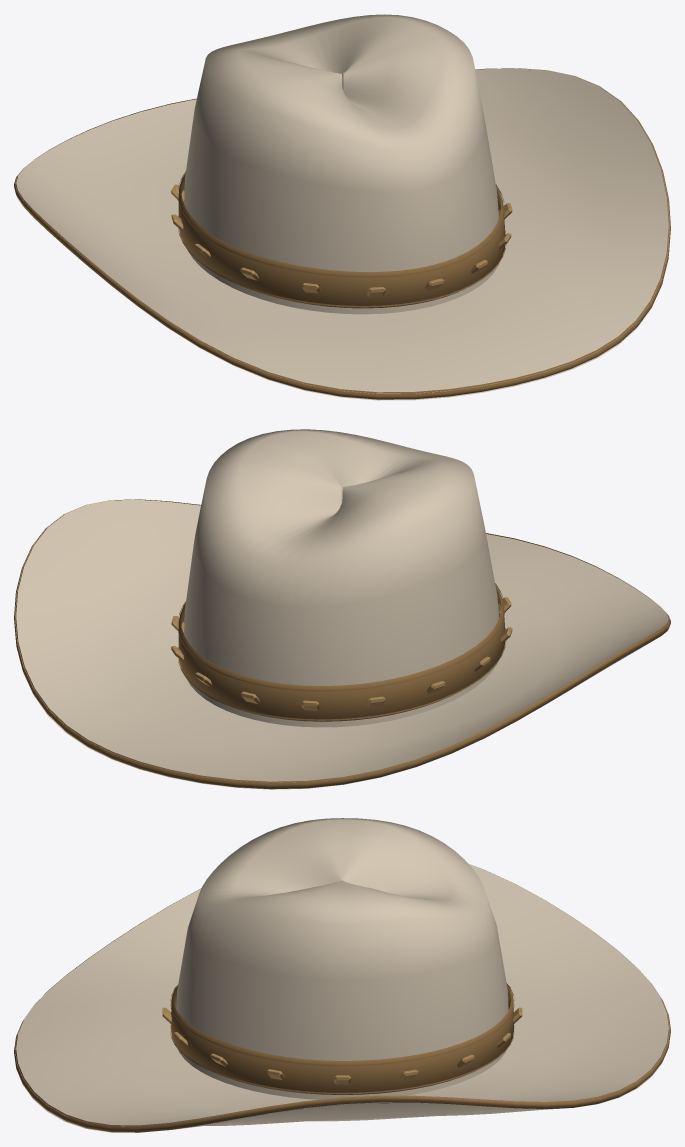
Rendered from bronze-band.glb.
The picture shows the model from 3 angles, top to bottom: view 1: azimuth 30°, elevation 25°; view 2: azimuth 150°, elevation 25°; view 3: azimuth 270°, elevation 25°; orthographic projection. The views are drawn at different scales.
Parts seen in each view (by area): view 1: Felt upper brim, Felt crown, Fitted hatband, Bound brim edge, Felt under brim, Sewn band border.001, Sewn band border; view 2: Felt upper brim, Felt crown, Fitted hatband, Bound brim edge, Sewn band border.001, Sewn band border, Felt under brim; view 3: Felt crown, Felt upper brim, Fitted hatband, Bound brim edge, Felt under brim, Sewn band border.001, Sewn band border.
Boxes of the visible parts, left/top/right/bottom form: Felt upper brim: left=15, top=68, right=669, bottom=393; Felt crown: left=184, top=14, right=499, bottom=314; Fitted hatband: left=178, top=173, right=505, bottom=308; Bound brim edge: left=14, top=68, right=670, bottom=399; Felt under brim: left=16, top=196, right=658, bottom=400; Sewn band border.001: left=177, top=171, right=504, bottom=277; Sewn band border: left=178, top=216, right=506, bottom=307; Felt upper brim: left=15, top=499, right=669, bottom=782; Felt crown: left=184, top=429, right=498, bottom=727; Fitted hatband: left=178, top=585, right=505, bottom=721; Bound brim edge: left=14, top=499, right=670, bottom=789; Sewn band border.001: left=177, top=583, right=504, bottom=691; Sewn band border: left=178, top=627, right=506, bottom=720; Felt under brim: left=23, top=626, right=669, bottom=789; Felt crown: left=176, top=818, right=508, bottom=1099; Felt upper brim: left=15, top=864, right=669, bottom=1126; Fitted hatband: left=171, top=985, right=513, bottom=1094; Bound brim edge: left=14, top=870, right=670, bottom=1132; Felt under brim: left=23, top=1053, right=666, bottom=1132; Sewn band border.001: left=170, top=983, right=514, bottom=1066; Sewn band border: left=170, top=1025, right=514, bottom=1094.
Bounding box in the file's own units: 0.3571 × 0.1276 × 0.3851.
